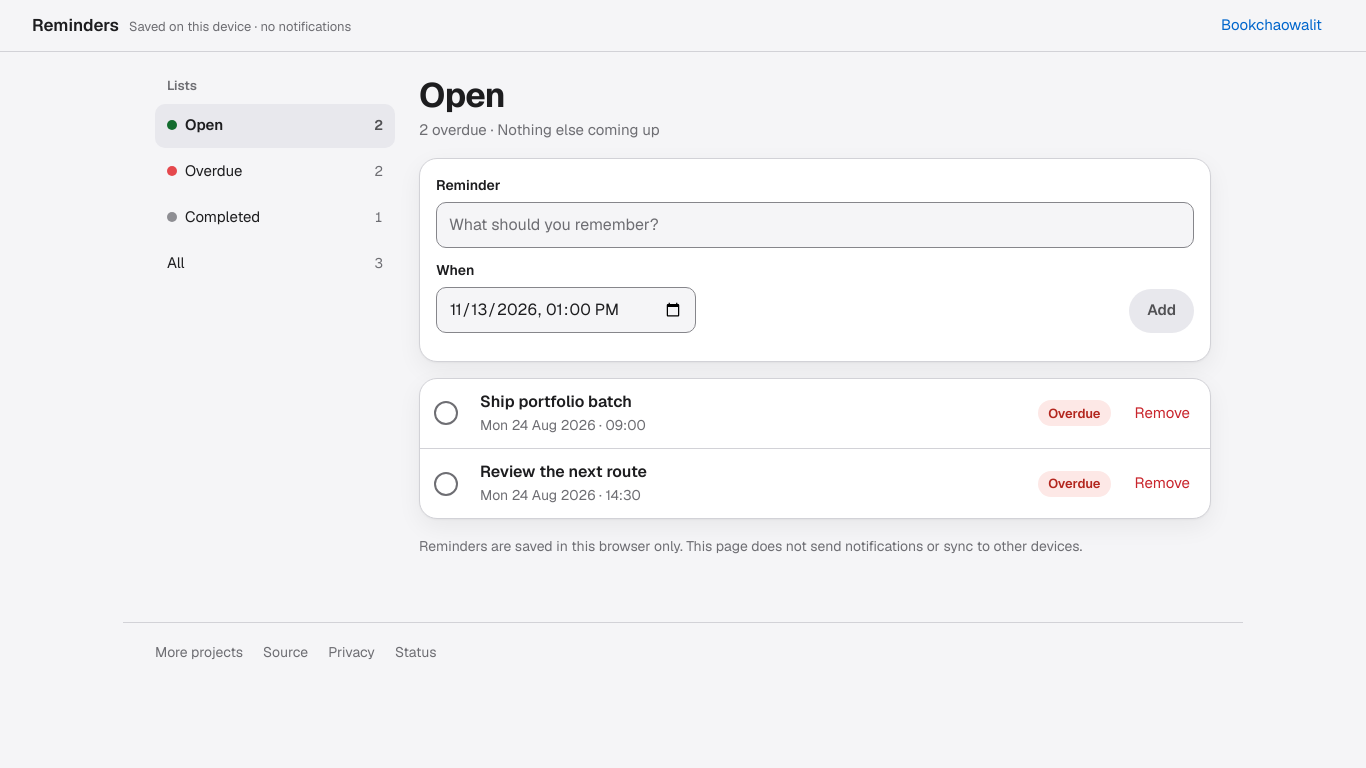
batch Undo › keyboard remove focuses Undo, also for the second removal in a batch, and Escape returns to the field
Later steps or results of the test are not shown.
What coordinates should you click on to do the following:
click the button with aria-label "Remove Review the next route"
I would click on:
 (1162, 484)
Its box is [1123,462,1202,506].
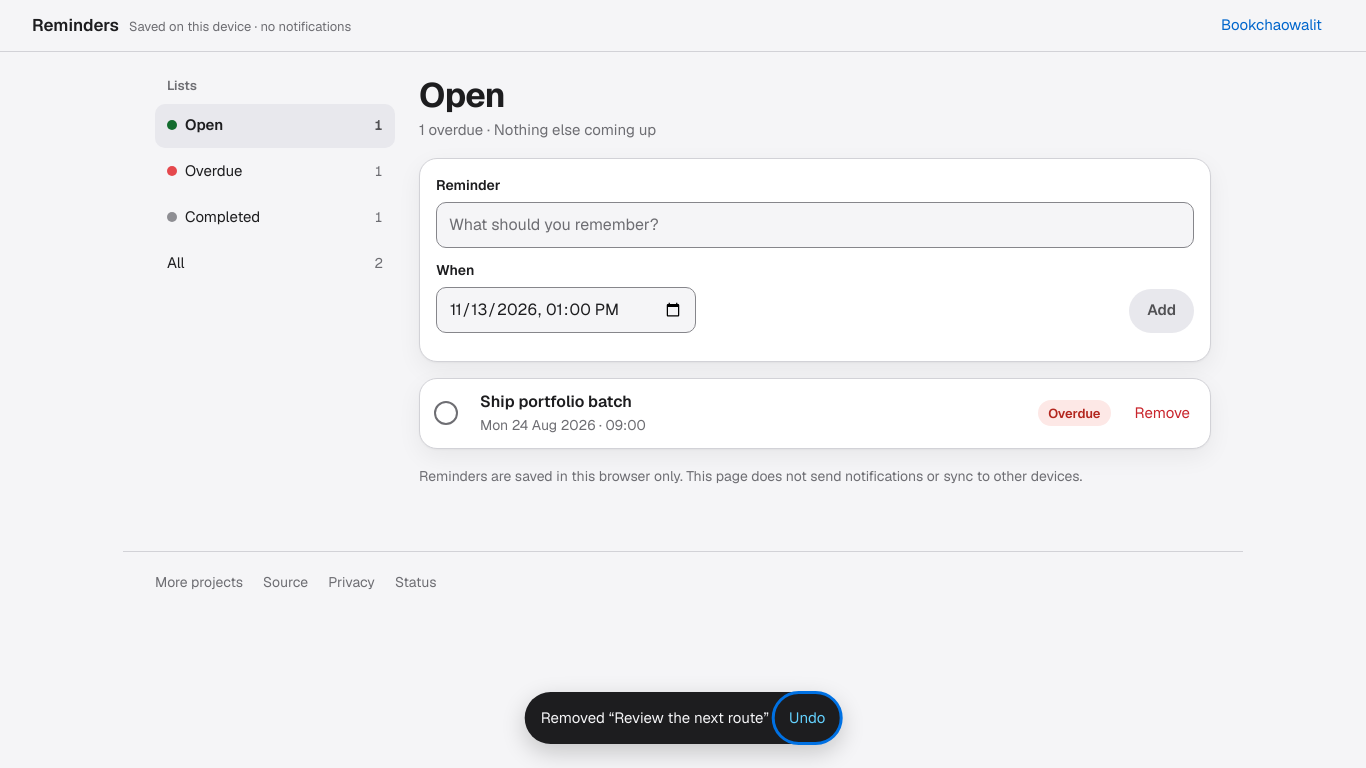
What coordinates should you click on to do the following:
click the button "Remove"
I would click on:
 (1162, 413)
Its box is [1123,391,1202,435].
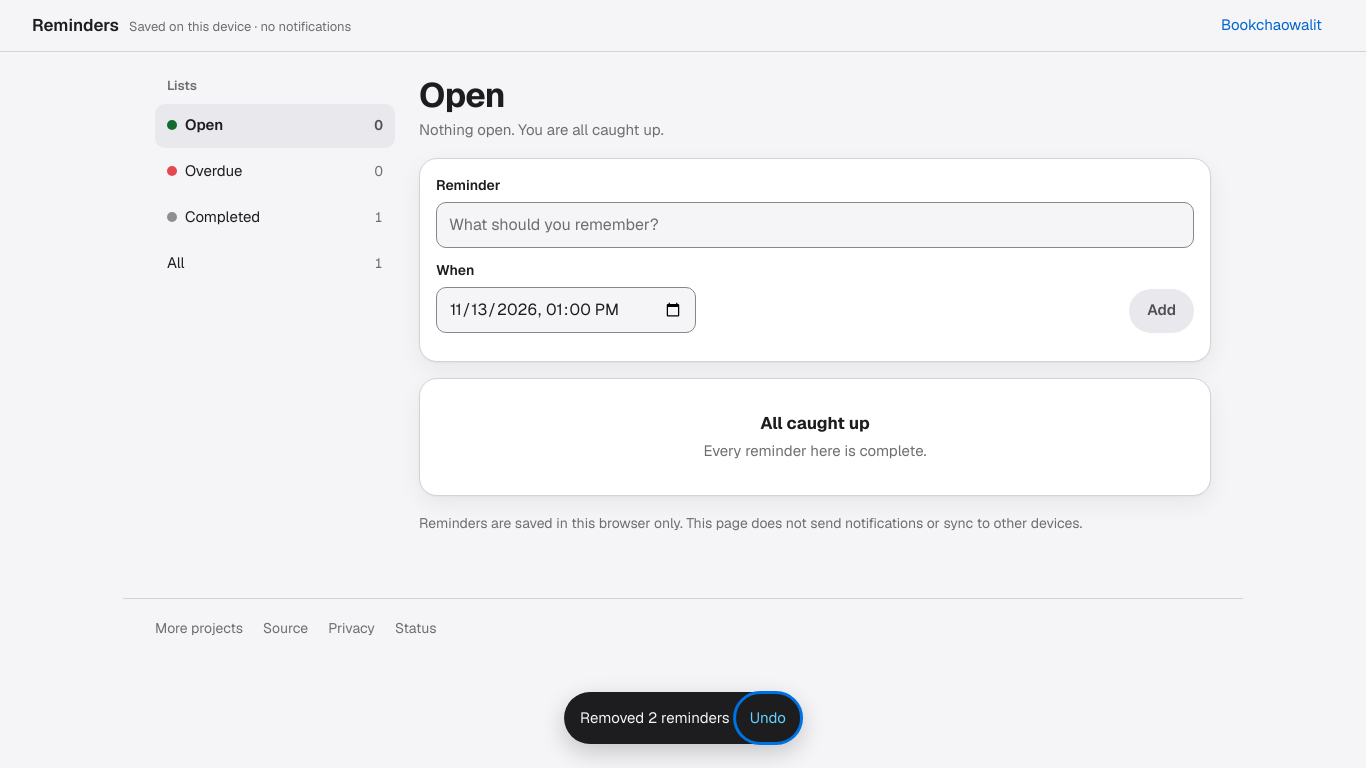
Result: the text "Removed 2 reminders" is shown at [580,707,730,729]
